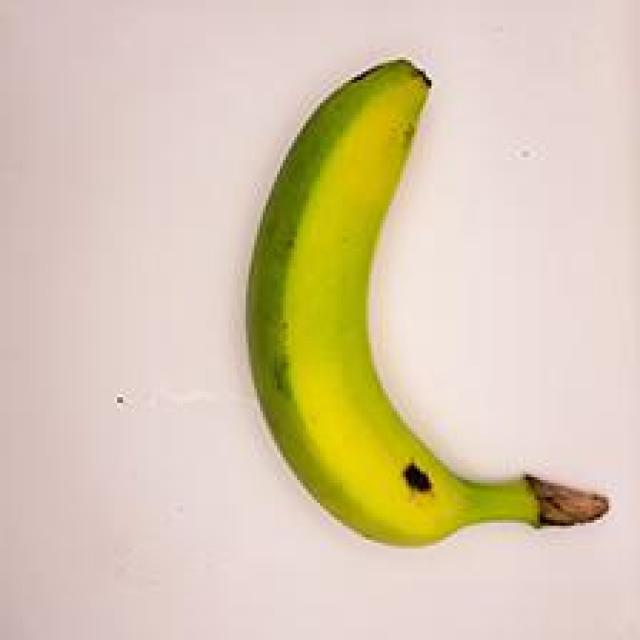Unripe: (161, 0, 598, 582)
